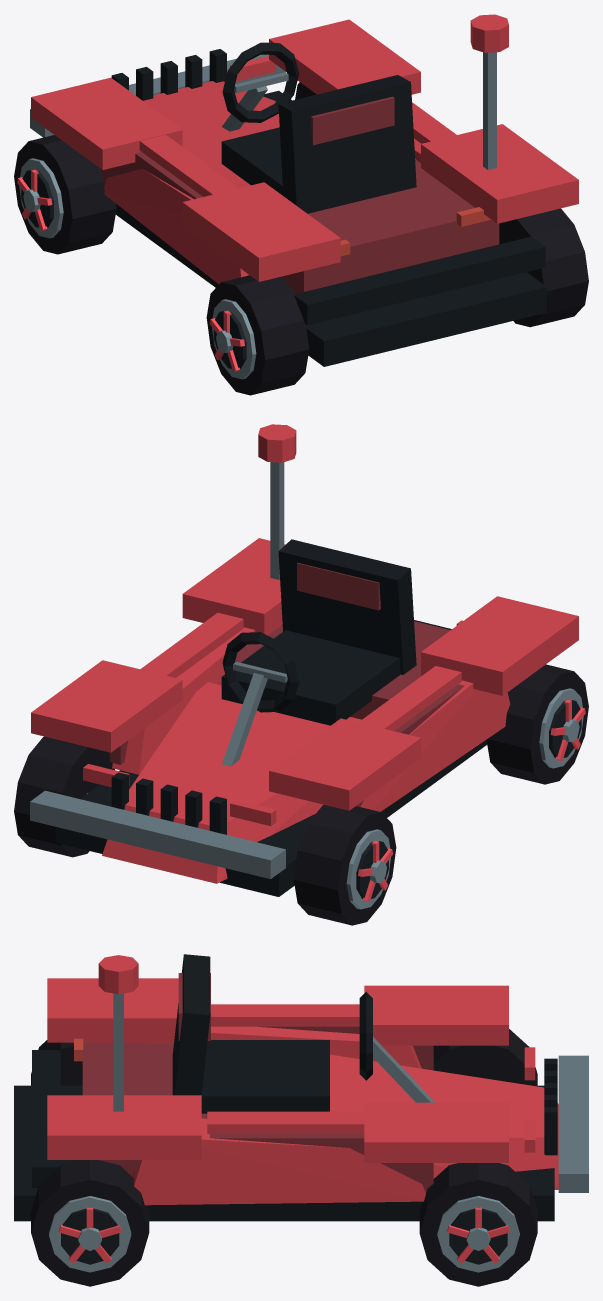
Rendered from kart.glb.
The picture shows the model from 3 angles, top to bottom: view 1: azimuth 30°, elevation 25°; view 2: azimuth 150°, elevation 25°; view 3: azimuth 270°, elevation 25°; orthographic projection.
Parts seen in each view (by area): view 1: chassis, wheel-rear-left, wheel-front-left, wheel-rear-right; view 2: chassis, wheel-front-left, wheel-rear-left, wheel-front-right; view 3: chassis, wheel-rear-right, wheel-front-right, wheel-front-left, wheel-rear-left.
Boxes of the visible parts, x1=… form: chassis: x1=30, y1=14, x2=578, y2=366; wheel-rear-left: x1=206, y1=275, x2=309, y2=395; wheel-front-left: x1=14, y1=135, x2=116, y2=254; wheel-rear-right: x1=499, y1=208, x2=588, y2=327; chassis: x1=30, y1=424, x2=578, y2=896; wheel-front-left: x1=293, y1=805, x2=396, y2=925; wheel-rear-left: x1=486, y1=664, x2=588, y2=784; wheel-front-right: x1=14, y1=736, x2=114, y2=857; chassis: x1=14, y1=954, x2=588, y2=1221; wheel-rear-right: x1=31, y1=1160, x2=149, y2=1286; wheel-front-right: x1=419, y1=1163, x2=537, y2=1286; wheel-front-left: x1=433, y1=1029, x2=537, y2=1085; wheel-rear-left: x1=31, y1=1040, x2=82, y2=1085.
Size of the model in its own units: 2.15 by 1.72 by 3.02.
